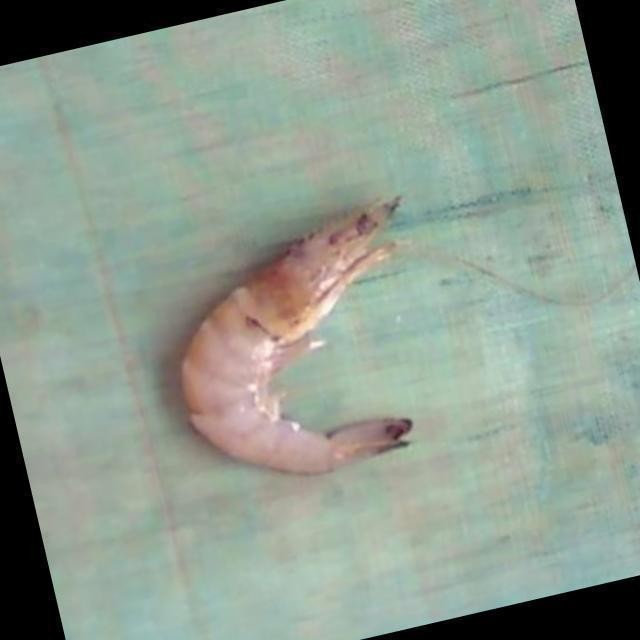shrimp: (180, 198, 411, 475)
